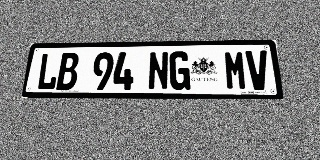4: (112, 52, 134, 90)
9: (92, 52, 114, 90)
B: (56, 53, 80, 90)
G: (169, 51, 190, 90)
L: (36, 53, 60, 90)
M: (224, 51, 248, 90)
N: (148, 52, 169, 90)
V: (245, 50, 271, 90)
